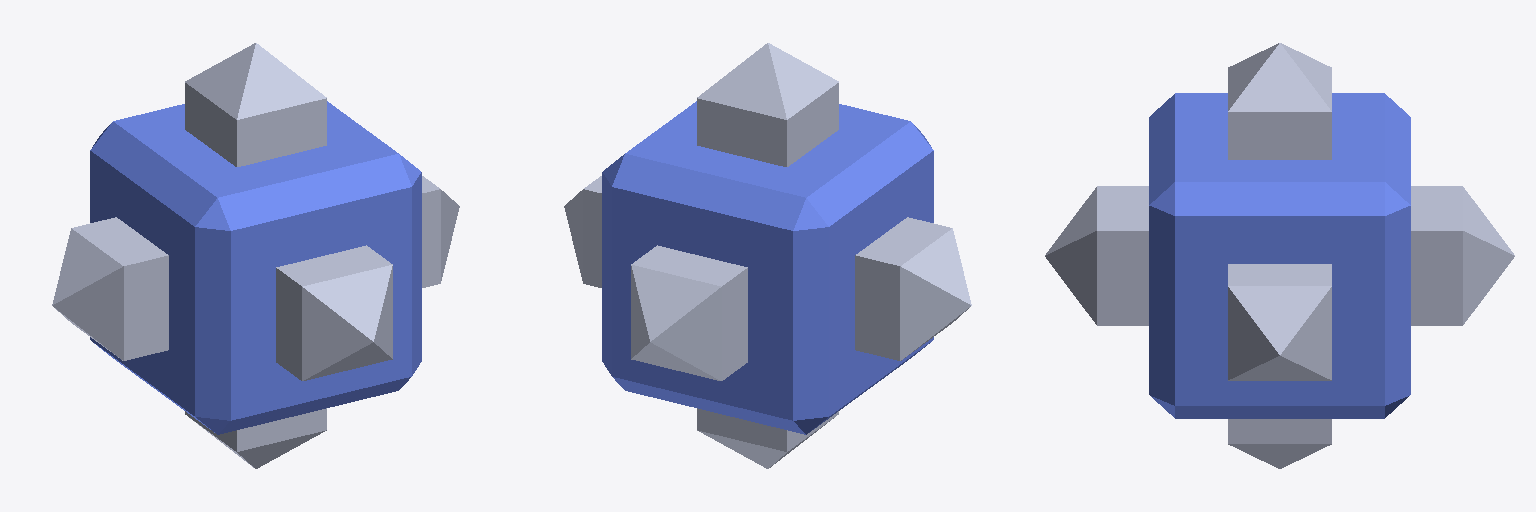
Rendered from spikeBlock.obj.
3 renders of one model, left to right at view 1: azimuth 30°, elevation 25°; view 2: azimuth 150°, elevation 25°; view 3: azimuth 270°, elevation 25°, orthographic.
Visible parts, largest first — view 1: spikeBlock; view 2: spikeBlock; view 3: spikeBlock.
Part boxes in pixels (x1,y1,x2,y2): spikeBlock: (52,43,459,468); spikeBlock: (564,43,971,468); spikeBlock: (1045,43,1514,468).
Size of the model in its own units: 0.9 by 0.9 by 0.9.